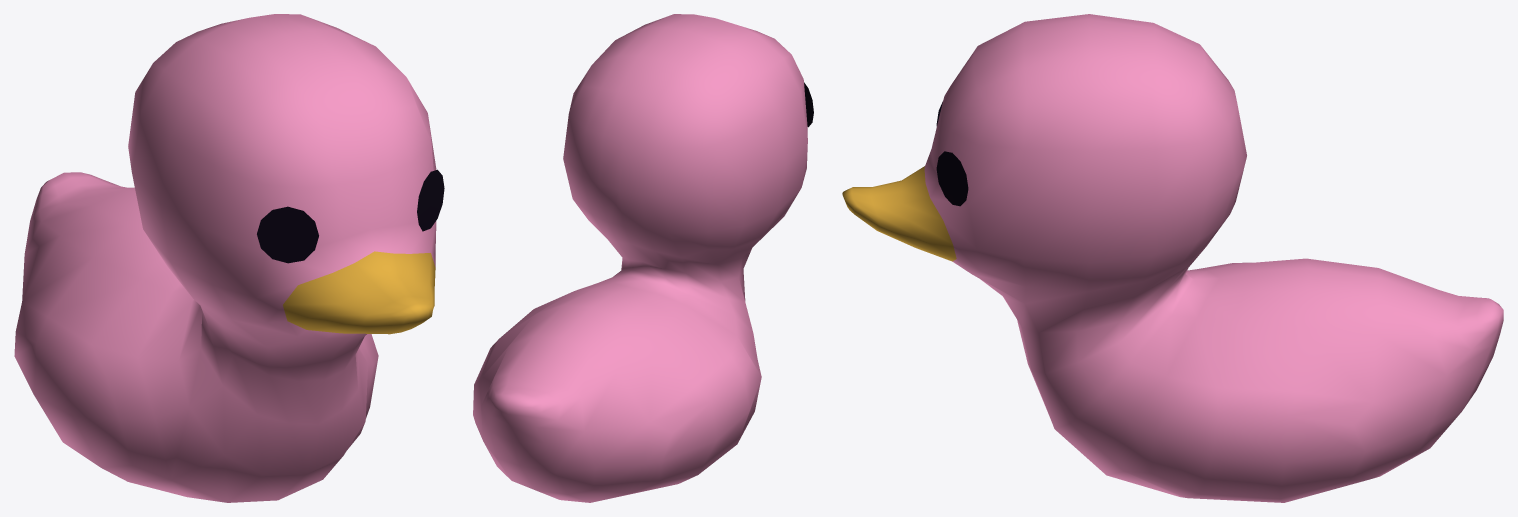
The model's file is Duck_Pink.fbx.
3 renders of one model, left to right at view 1: azimuth 30°, elevation 25°; view 2: azimuth 150°, elevation 25°; view 3: azimuth 270°, elevation 25°, orthographic. The views are drawn at different scales.
Parts seen in each view (by area): view 1: Duck_Pink; view 2: Duck_Pink; view 3: Duck_Pink.
Part boxes in pixels (x1=…): Duck_Pink: x1=14, y1=14, x2=444, y2=502; Duck_Pink: x1=473, y1=14, x2=813, y2=502; Duck_Pink: x1=842, y1=14, x2=1503, y2=502.
Size of the model in its own units: 76.94 by 124 by 165.
